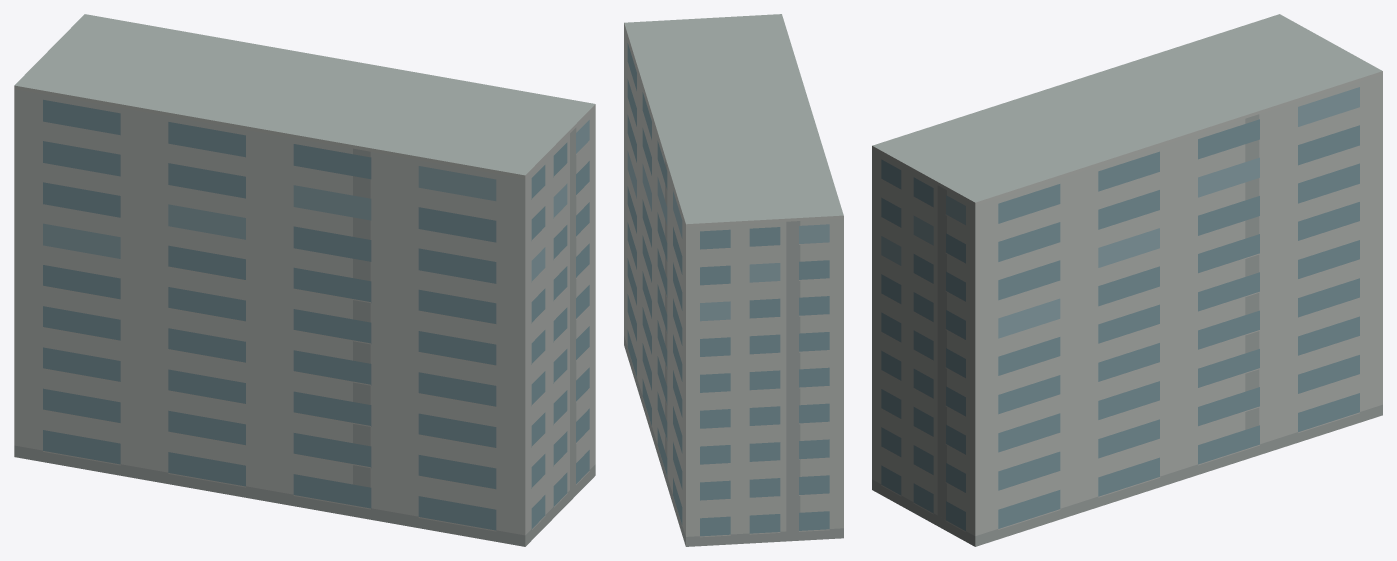
The model's file is residential-f3b1760e-9dbc-4352-b697-0bdd94ab8d63.glb.
3 views of the same model, side by side, from view 1: azimuth 30°, elevation 25°; view 2: azimuth 150°, elevation 25°; view 3: azimuth 270°, elevation 25° (orthographic). The views are drawn at different scales.
Visible parts, largest first — view 1: residential-f3b1760e-9dbc-4352-b697-0bdd94ab8d63.tmp; view 2: residential-f3b1760e-9dbc-4352-b697-0bdd94ab8d63.tmp; view 3: residential-f3b1760e-9dbc-4352-b697-0bdd94ab8d63.tmp.
Part boxes in pixels (x1=…): residential-f3b1760e-9dbc-4352-b697-0bdd94ab8d63.tmp: x1=14, y1=14, x2=595, y2=546; residential-f3b1760e-9dbc-4352-b697-0bdd94ab8d63.tmp: x1=624, y1=14, x2=843, y2=546; residential-f3b1760e-9dbc-4352-b697-0bdd94ab8d63.tmp: x1=872, y1=14, x2=1382, y2=546.
Size of the model in its own units: 30.56 by 26 by 34.96.
